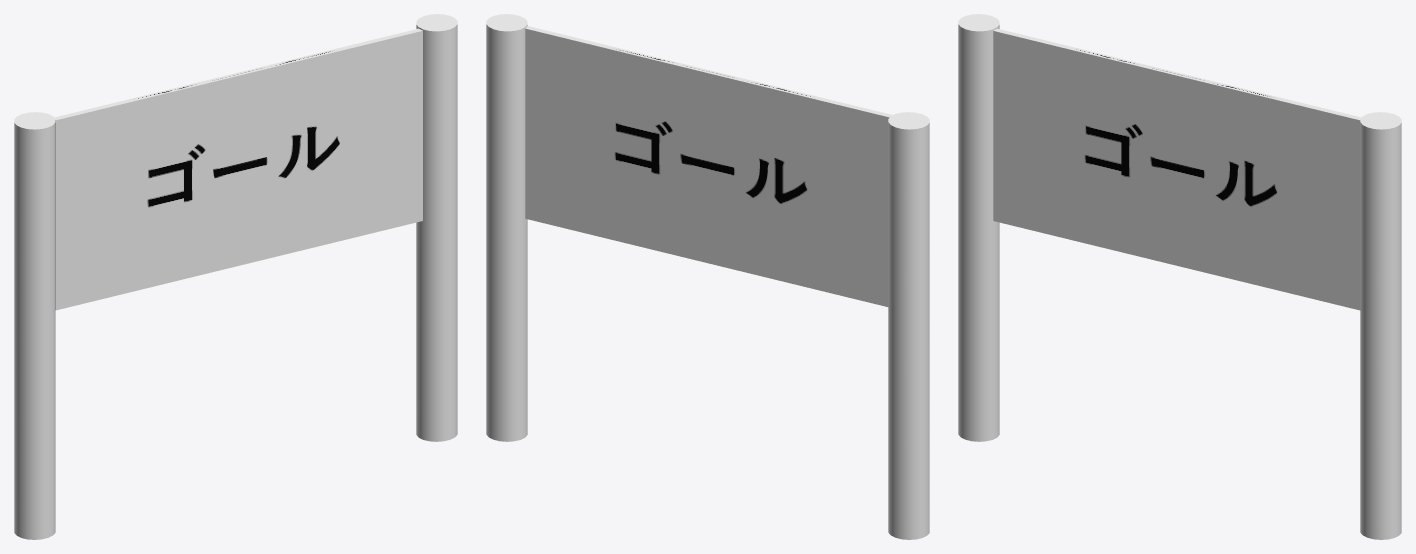
Rendered from RaceGoal.FBX.
3 views of the same model, side by side, from view 1: azimuth 30°, elevation 25°; view 2: azimuth 150°, elevation 25°; view 3: azimuth 330°, elevation 25° (orthographic).
Parts seen in each view (by area): view 1: Box001, Cylinder002, Cylinder001; view 2: Box001, Cylinder002, Cylinder001; view 3: Box001, Cylinder001, Cylinder002.
Boxes of the visible parts, x1=… form: Box001: x1=54, y1=28, x2=422, y2=310; Cylinder002: x1=14, y1=112, x2=55, y2=539; Cylinder001: x1=416, y1=14, x2=457, y2=441; Box001: x1=525, y1=26, x2=892, y2=306; Cylinder002: x1=888, y1=112, x2=929, y2=539; Cylinder001: x1=486, y1=14, x2=527, y2=441; Box001: x1=993, y1=28, x2=1361, y2=310; Cylinder001: x1=1360, y1=112, x2=1401, y2=539; Cylinder002: x1=958, y1=14, x2=999, y2=441.
Bounding box in the file's own units: 31.25 × 27.94 × 2.5.
Materials: 2 (1 with a texture image).
